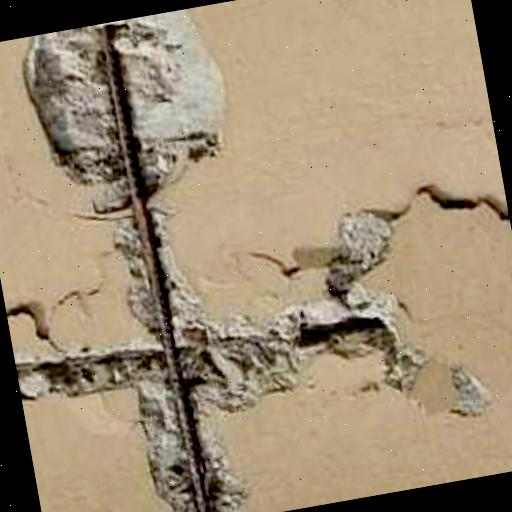spalling: (13, 13, 482, 512)
